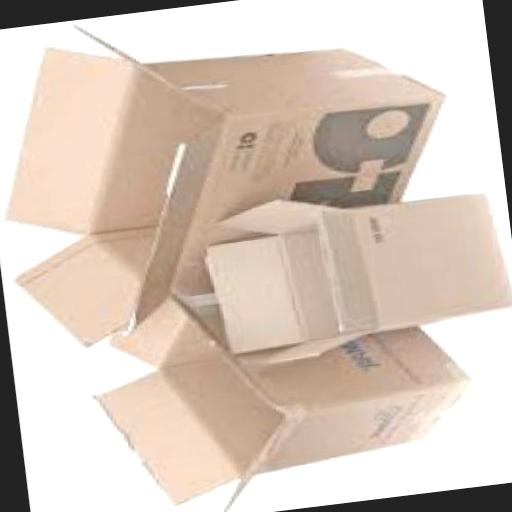cardboard: (0, 0, 466, 353), (77, 259, 477, 512), (191, 169, 512, 370)
